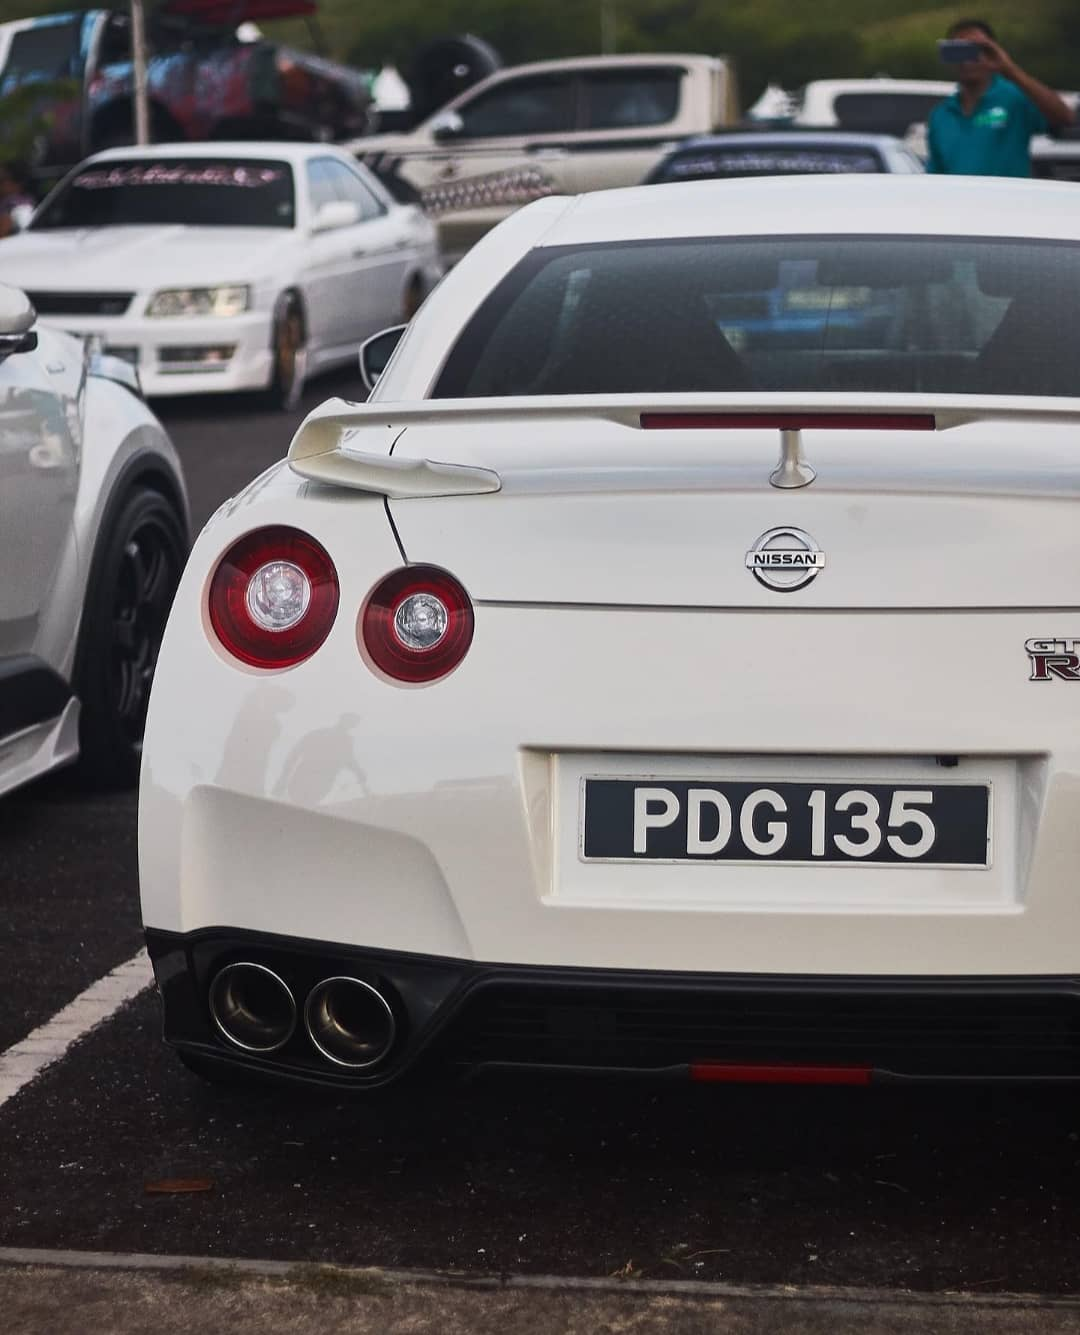License-Plate: (584, 774, 988, 858)
